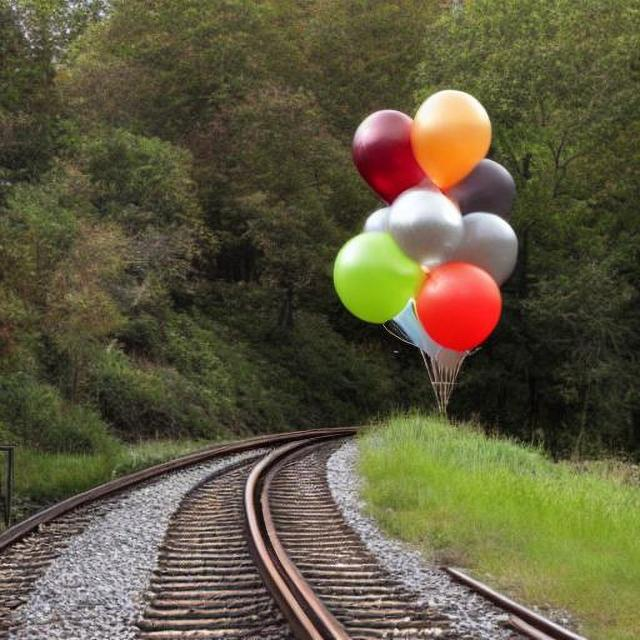balloon: (333, 94, 512, 356)
